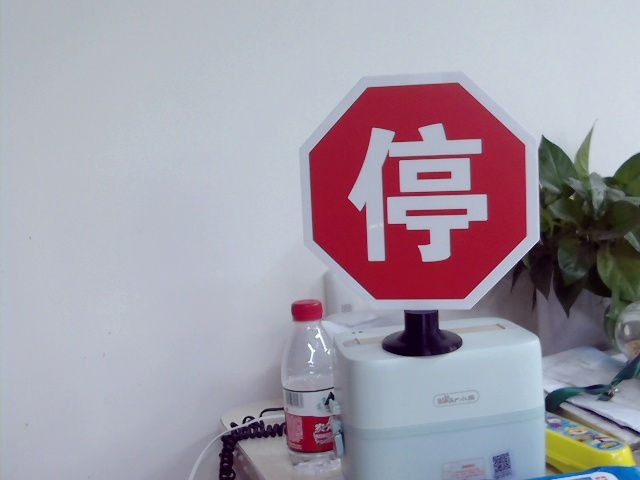stop: (346, 113, 492, 263)
